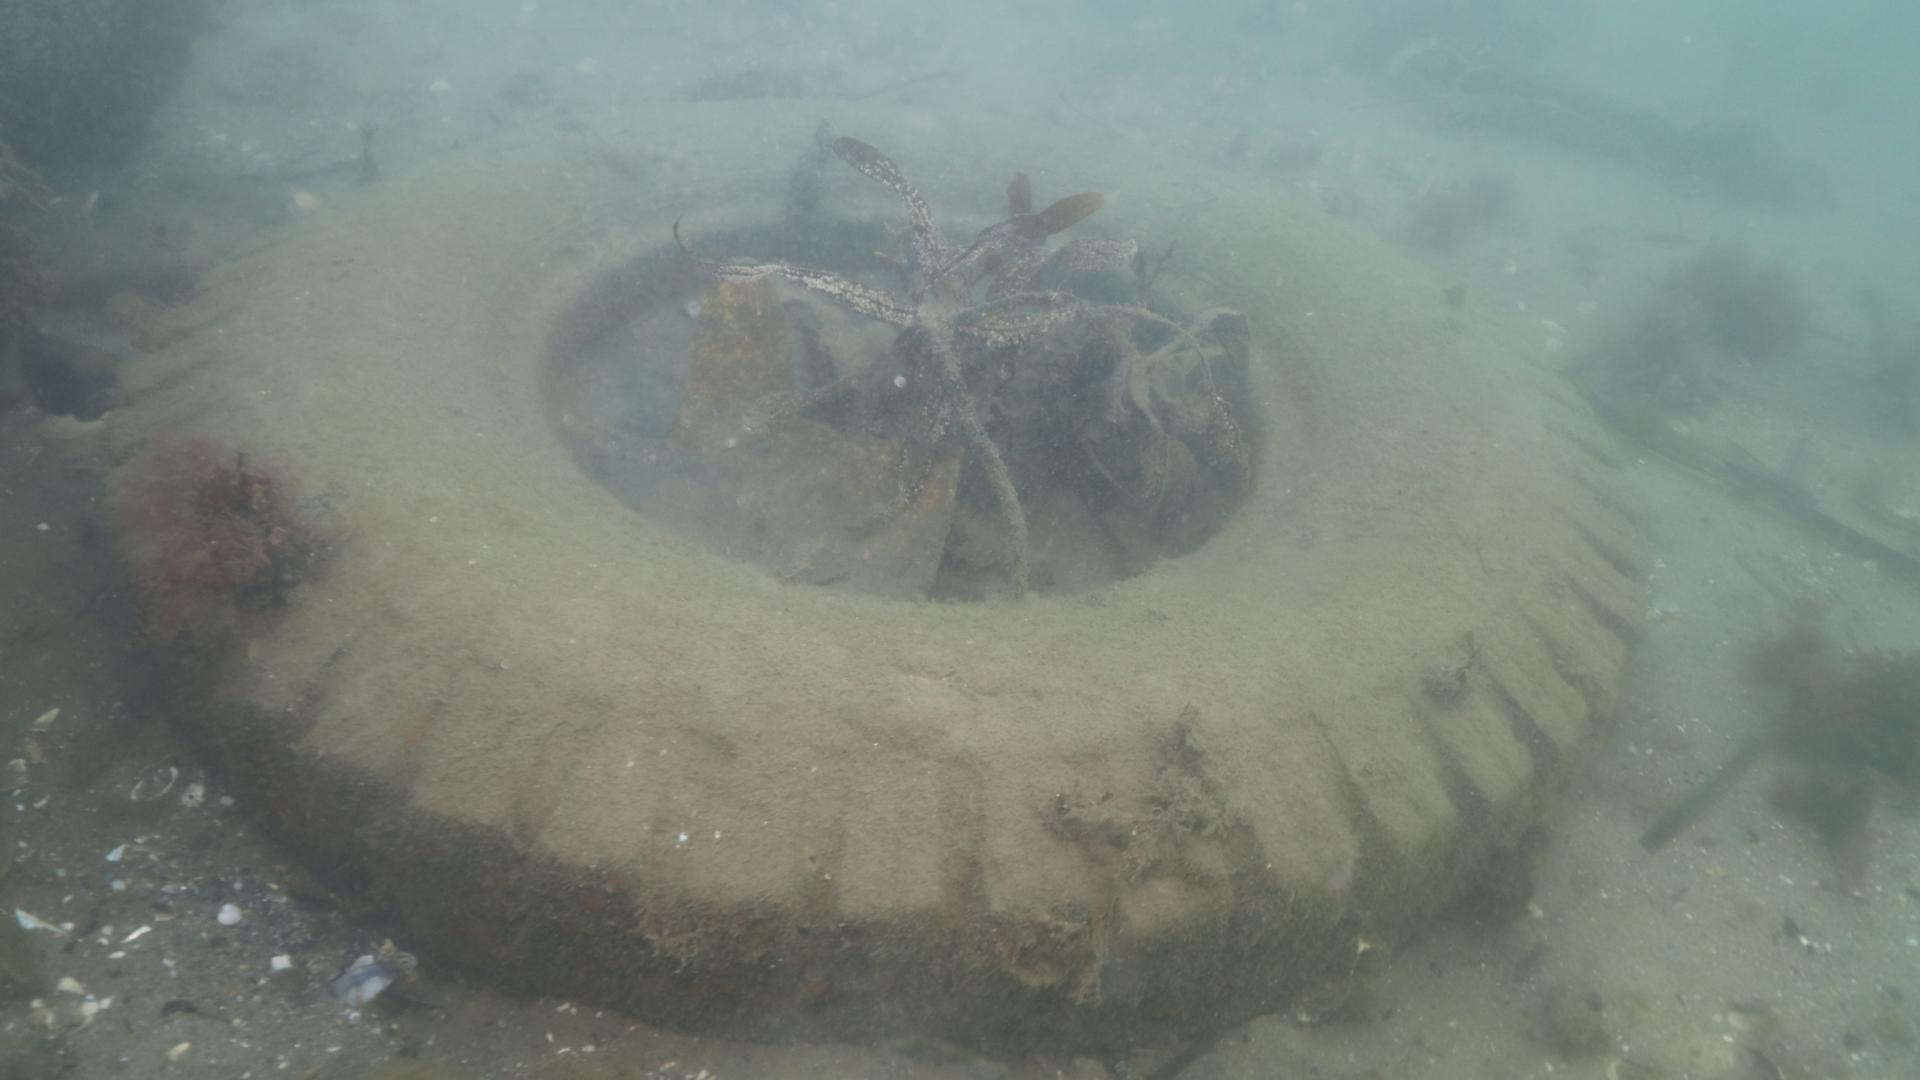tire: (112, 95, 1644, 1040)
